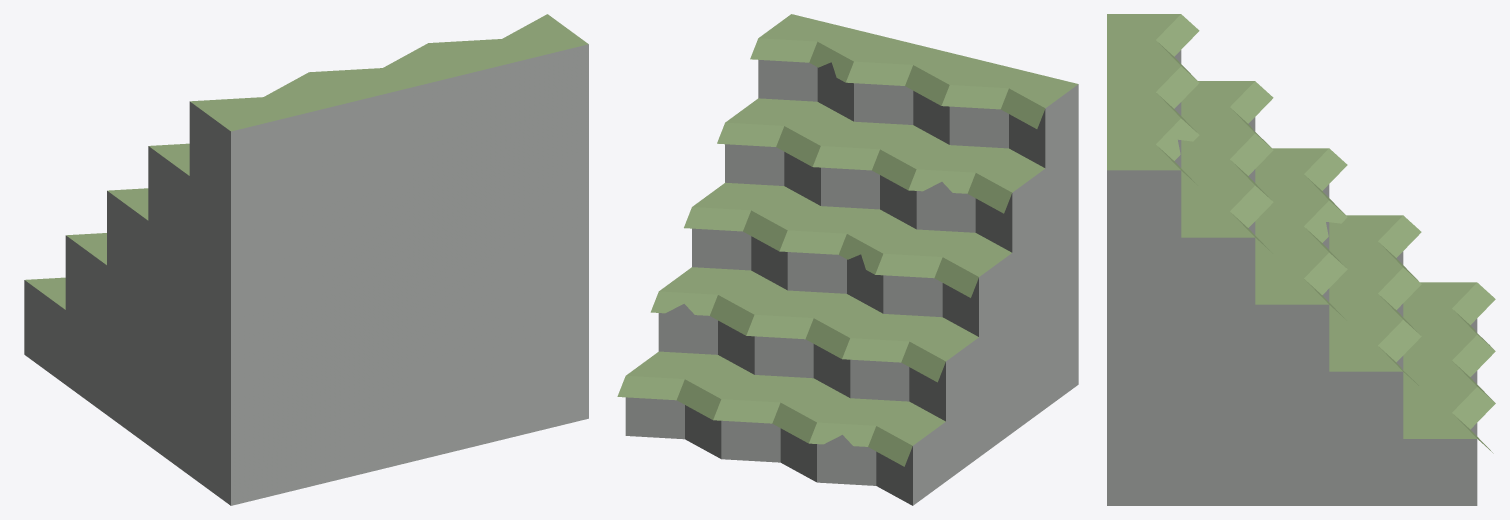
File: srf_cliff_steps.glb
The picture shows the model from 3 angles, left to right: view 1: azimuth 30°, elevation 25°; view 2: azimuth 150°, elevation 25°; view 3: azimuth 270°, elevation 25°; orthographic projection. The views are drawn at different scales.
Visible parts, largest first — view 1: cliff_steps_stone; view 2: cliff_steps_stone; view 3: cliff_steps_stone.
Part boxes in pixels (x1,y1,x2,y2): cliff_steps_stone: (24, 14, 588, 505); cliff_steps_stone: (617, 14, 1078, 505); cliff_steps_stone: (1107, 14, 1495, 505).
Size of the model in its own units: 1 by 1 by 1.05.
